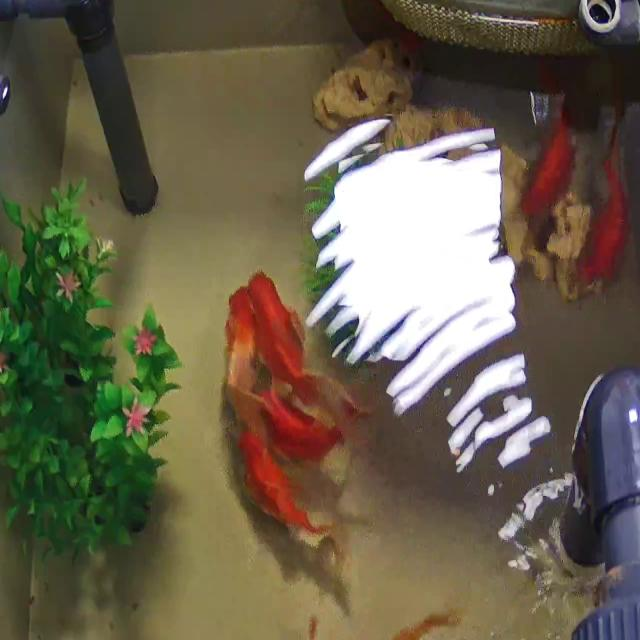fish: (238, 424, 338, 545), (245, 269, 325, 393), (524, 54, 576, 220), (579, 138, 632, 288), (252, 381, 346, 461), (224, 282, 262, 402), (358, 604, 455, 640)
